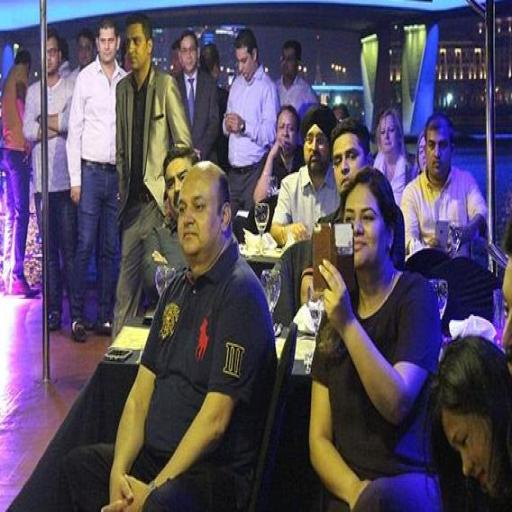person: (64, 163, 275, 511), (310, 168, 440, 511), (112, 13, 192, 337), (67, 19, 126, 341), (430, 336, 511, 511), (402, 113, 486, 255), (223, 29, 279, 217), (43, 29, 76, 330), (271, 106, 339, 245), (143, 146, 198, 304), (1, 50, 33, 296), (176, 30, 219, 162), (254, 105, 303, 203), (374, 109, 416, 205), (200, 43, 228, 170), (276, 40, 318, 117), (331, 118, 373, 194), (68, 27, 95, 83), (503, 222, 511, 372), (416, 132, 426, 174), (332, 103, 350, 122)
